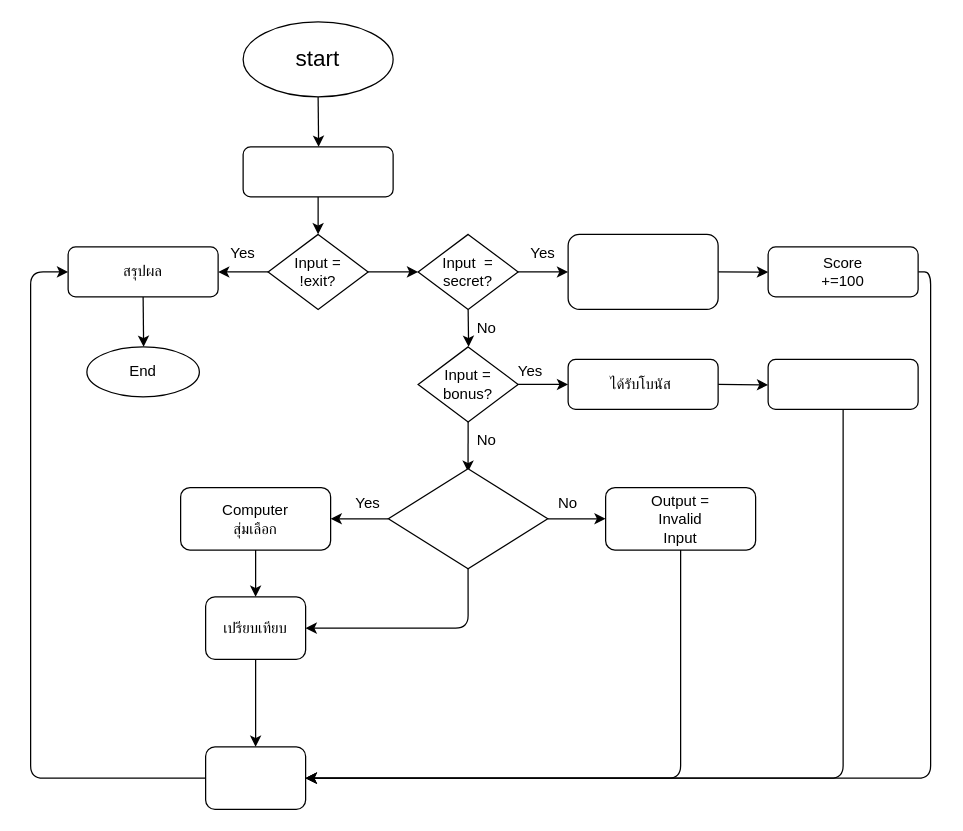
Some shapes in this 963 by 831 pixel diagram are drawn without their labels. Here are the shapes that lost their labels. From the top down, the centre of each, then its label:
[317,171]: รับ Input
[642,271]: Output: คุณใช้คำสั่งลับ! ชนะทันที
[842,383]: Score +=20
[467,518]: Input = rock/paper/scissor?
[255,777]: อัพเดทผล
